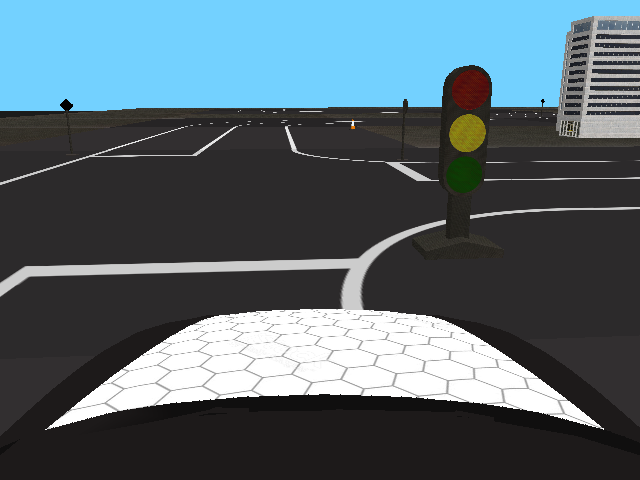yellow_light: (439, 65, 492, 199)
